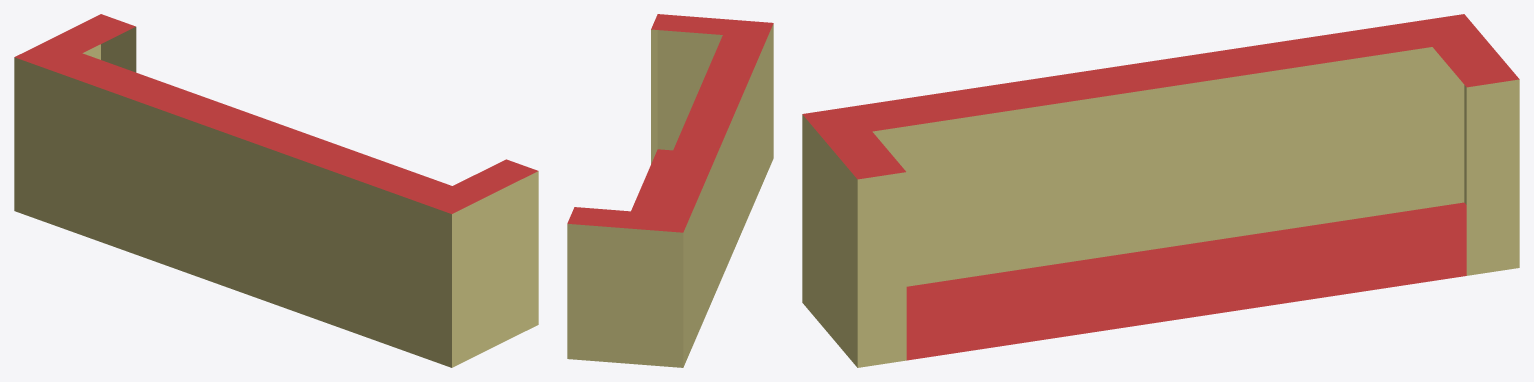
3 views of the same model, side by side, from view 1: azimuth 30°, elevation 25°; view 2: azimuth 150°, elevation 25°; view 3: azimuth 270°, elevation 25° (orthographic). The views are drawn at different scales.
Bounding box in the file's own units: 16.51 × 30.25 × 8.77.
